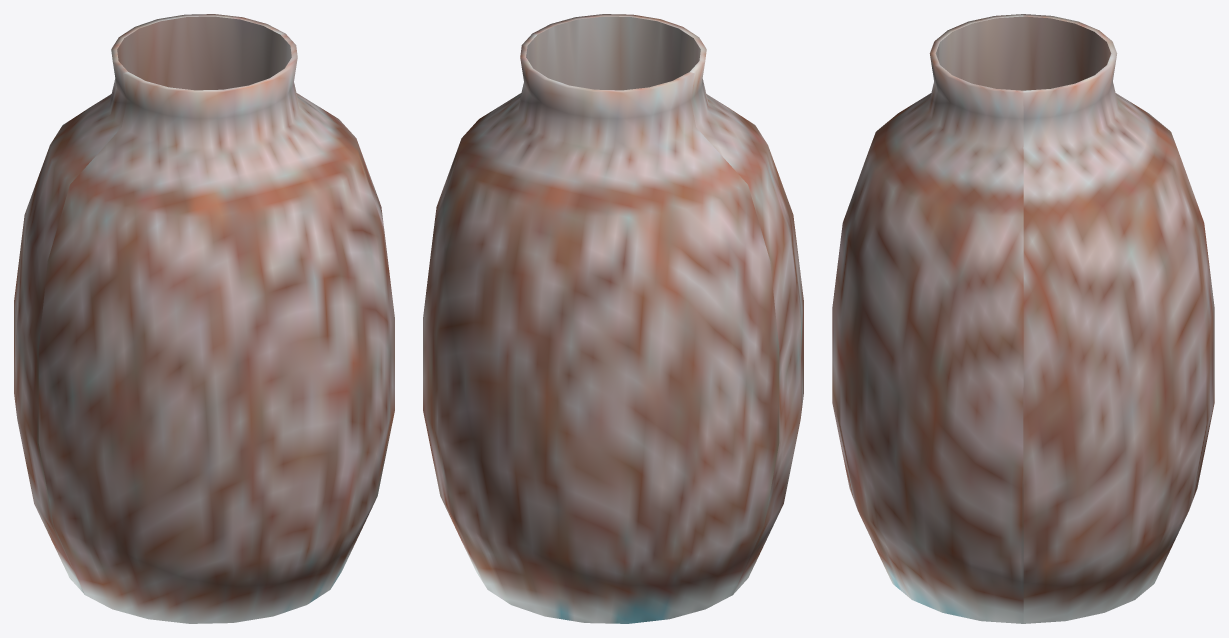
Rendered from LP_Vase_B.FBX.
The picture shows the model from 3 angles, left to right: view 1: azimuth 30°, elevation 25°; view 2: azimuth 150°, elevation 25°; view 3: azimuth 270°, elevation 25°; orthographic projection.
Parts seen in each view (by area): view 1: LP_Vase_B; view 2: LP_Vase_B; view 3: LP_Vase_B.
Part boxes in pixels (left/top/right/bottom): LP_Vase_B: left=14, top=14, right=394, bottom=623; LP_Vase_B: left=423, top=14, right=803, bottom=623; LP_Vase_B: left=832, top=14, right=1214, bottom=623.
Size of the model in its own units: 12.44 by 18.38 by 12.44.
